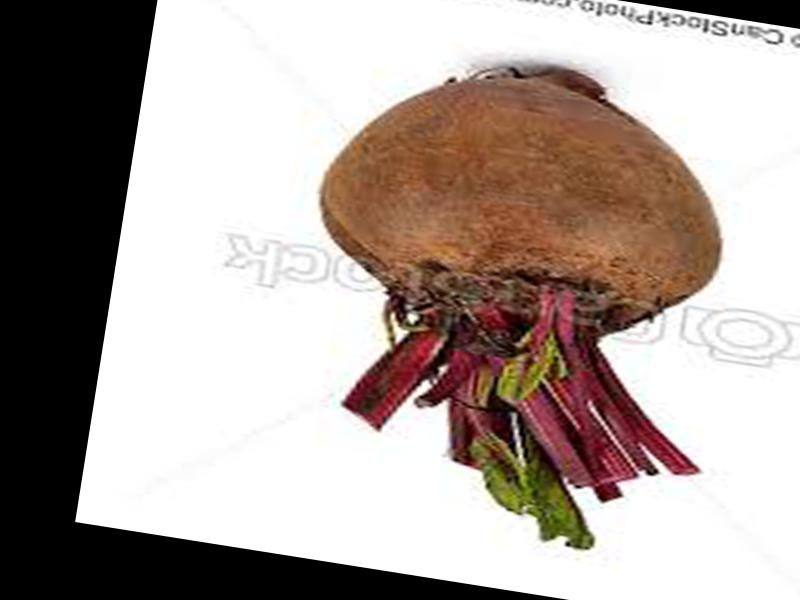Beet: (268, 35, 756, 564)
